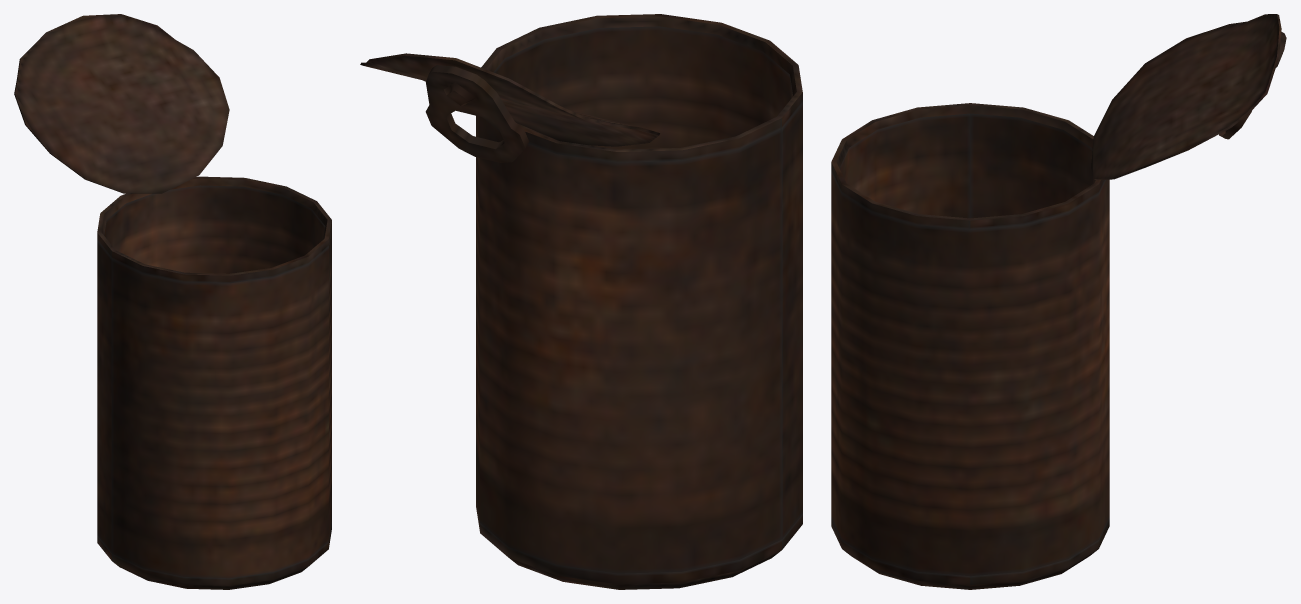
File: tin_can_mp_1_rusty_1.fbx
The picture shows the model from 3 angles, left to right: view 1: azimuth 30°, elevation 25°; view 2: azimuth 150°, elevation 25°; view 3: azimuth 270°, elevation 25°; orthographic projection. The views are drawn at different scales.
Visible parts, largest first — view 1: tin_can_mp_1_rusty_1; view 2: tin_can_mp_1_rusty_1; view 3: tin_can_mp_1_rusty_1.
Part boxes in pixels (x1,y1,x2,y2): tin_can_mp_1_rusty_1: [14, 14, 331, 589]; tin_can_mp_1_rusty_1: [360, 14, 802, 589]; tin_can_mp_1_rusty_1: [831, 14, 1286, 589].
Size of the model in its own units: 0.112 by 0.2256 by 0.1833.
1 material, 1 textured.
